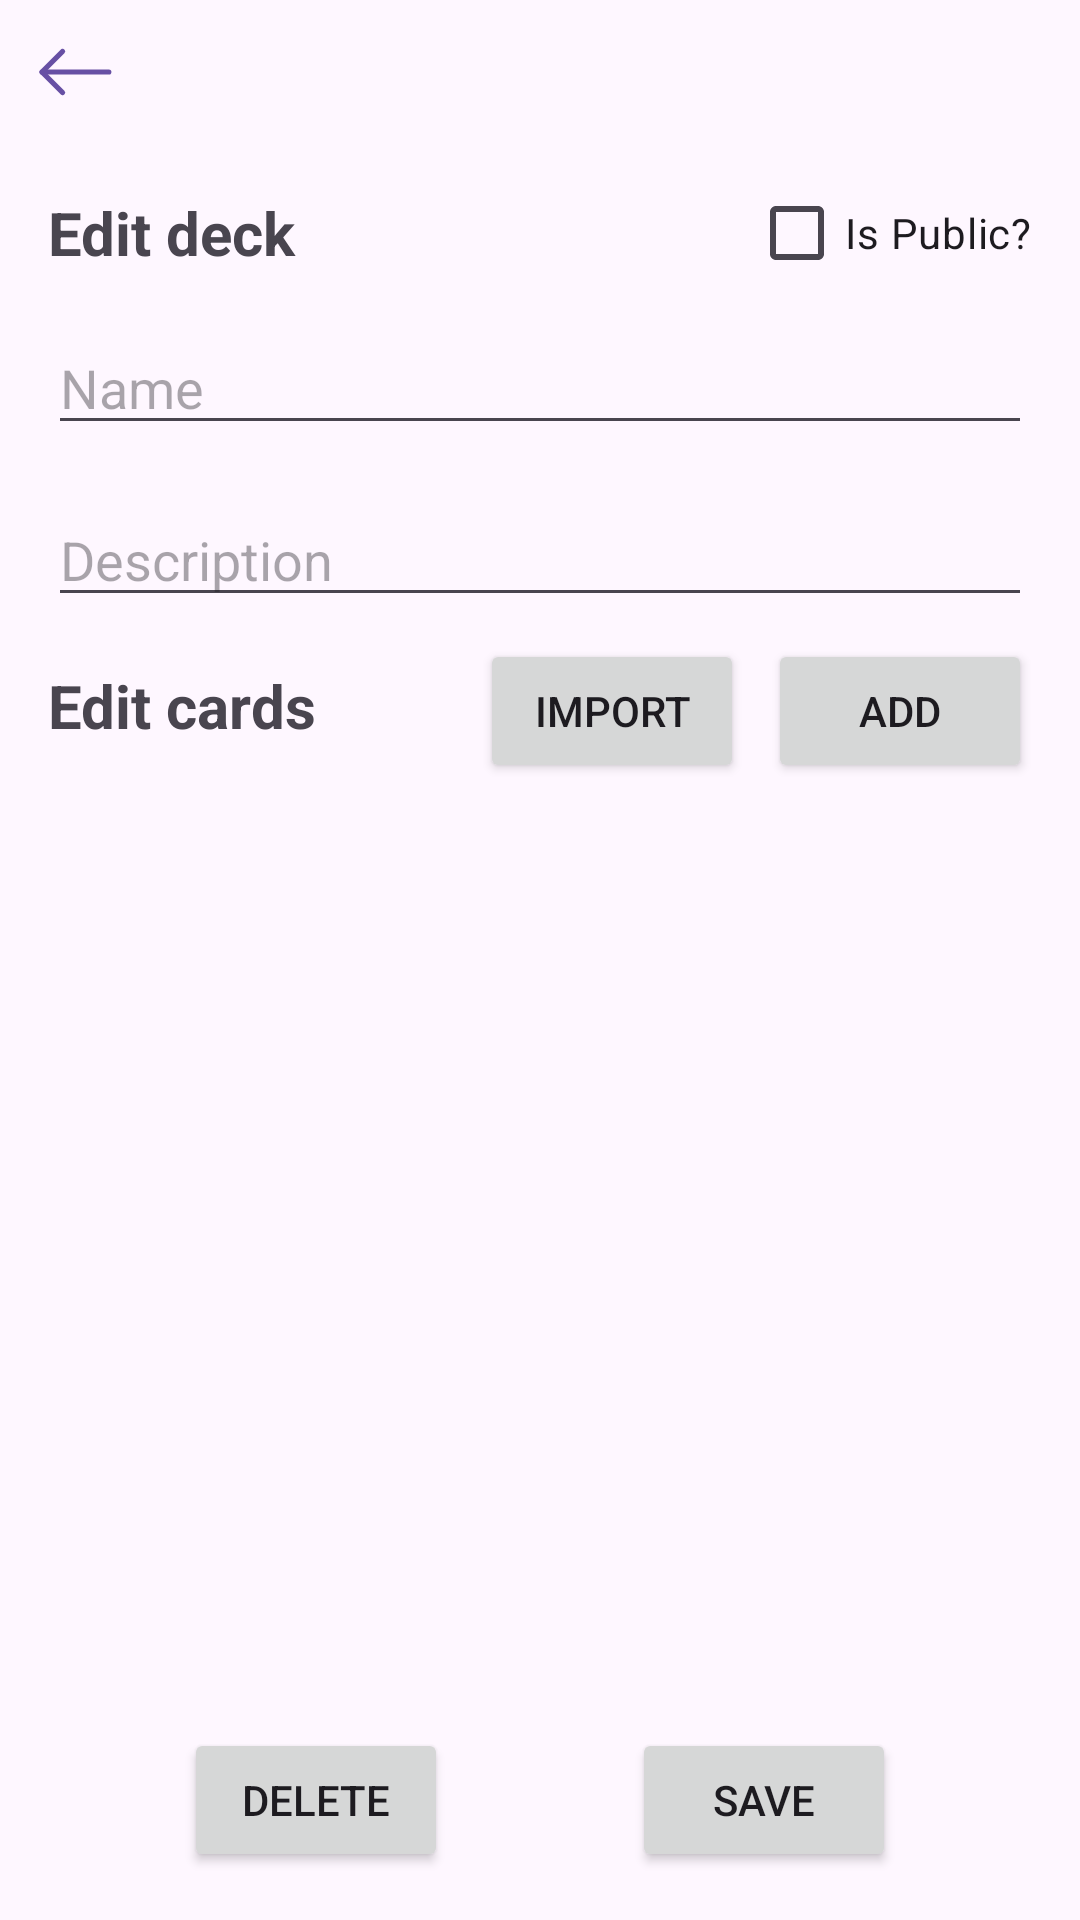

Named icons in this screenshot (1080px×1920px) and their centers, point (x, y):
Back button: point (75, 72)
